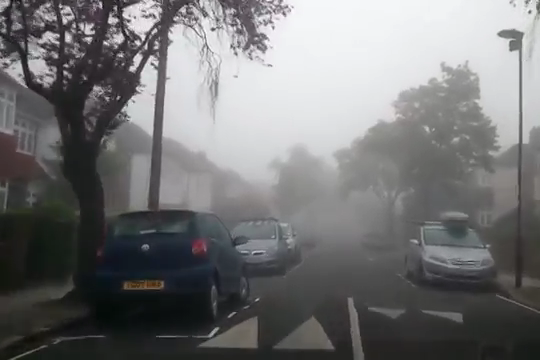car: (84, 206, 253, 327), (402, 215, 499, 290), (226, 219, 290, 278), (255, 220, 303, 266)
